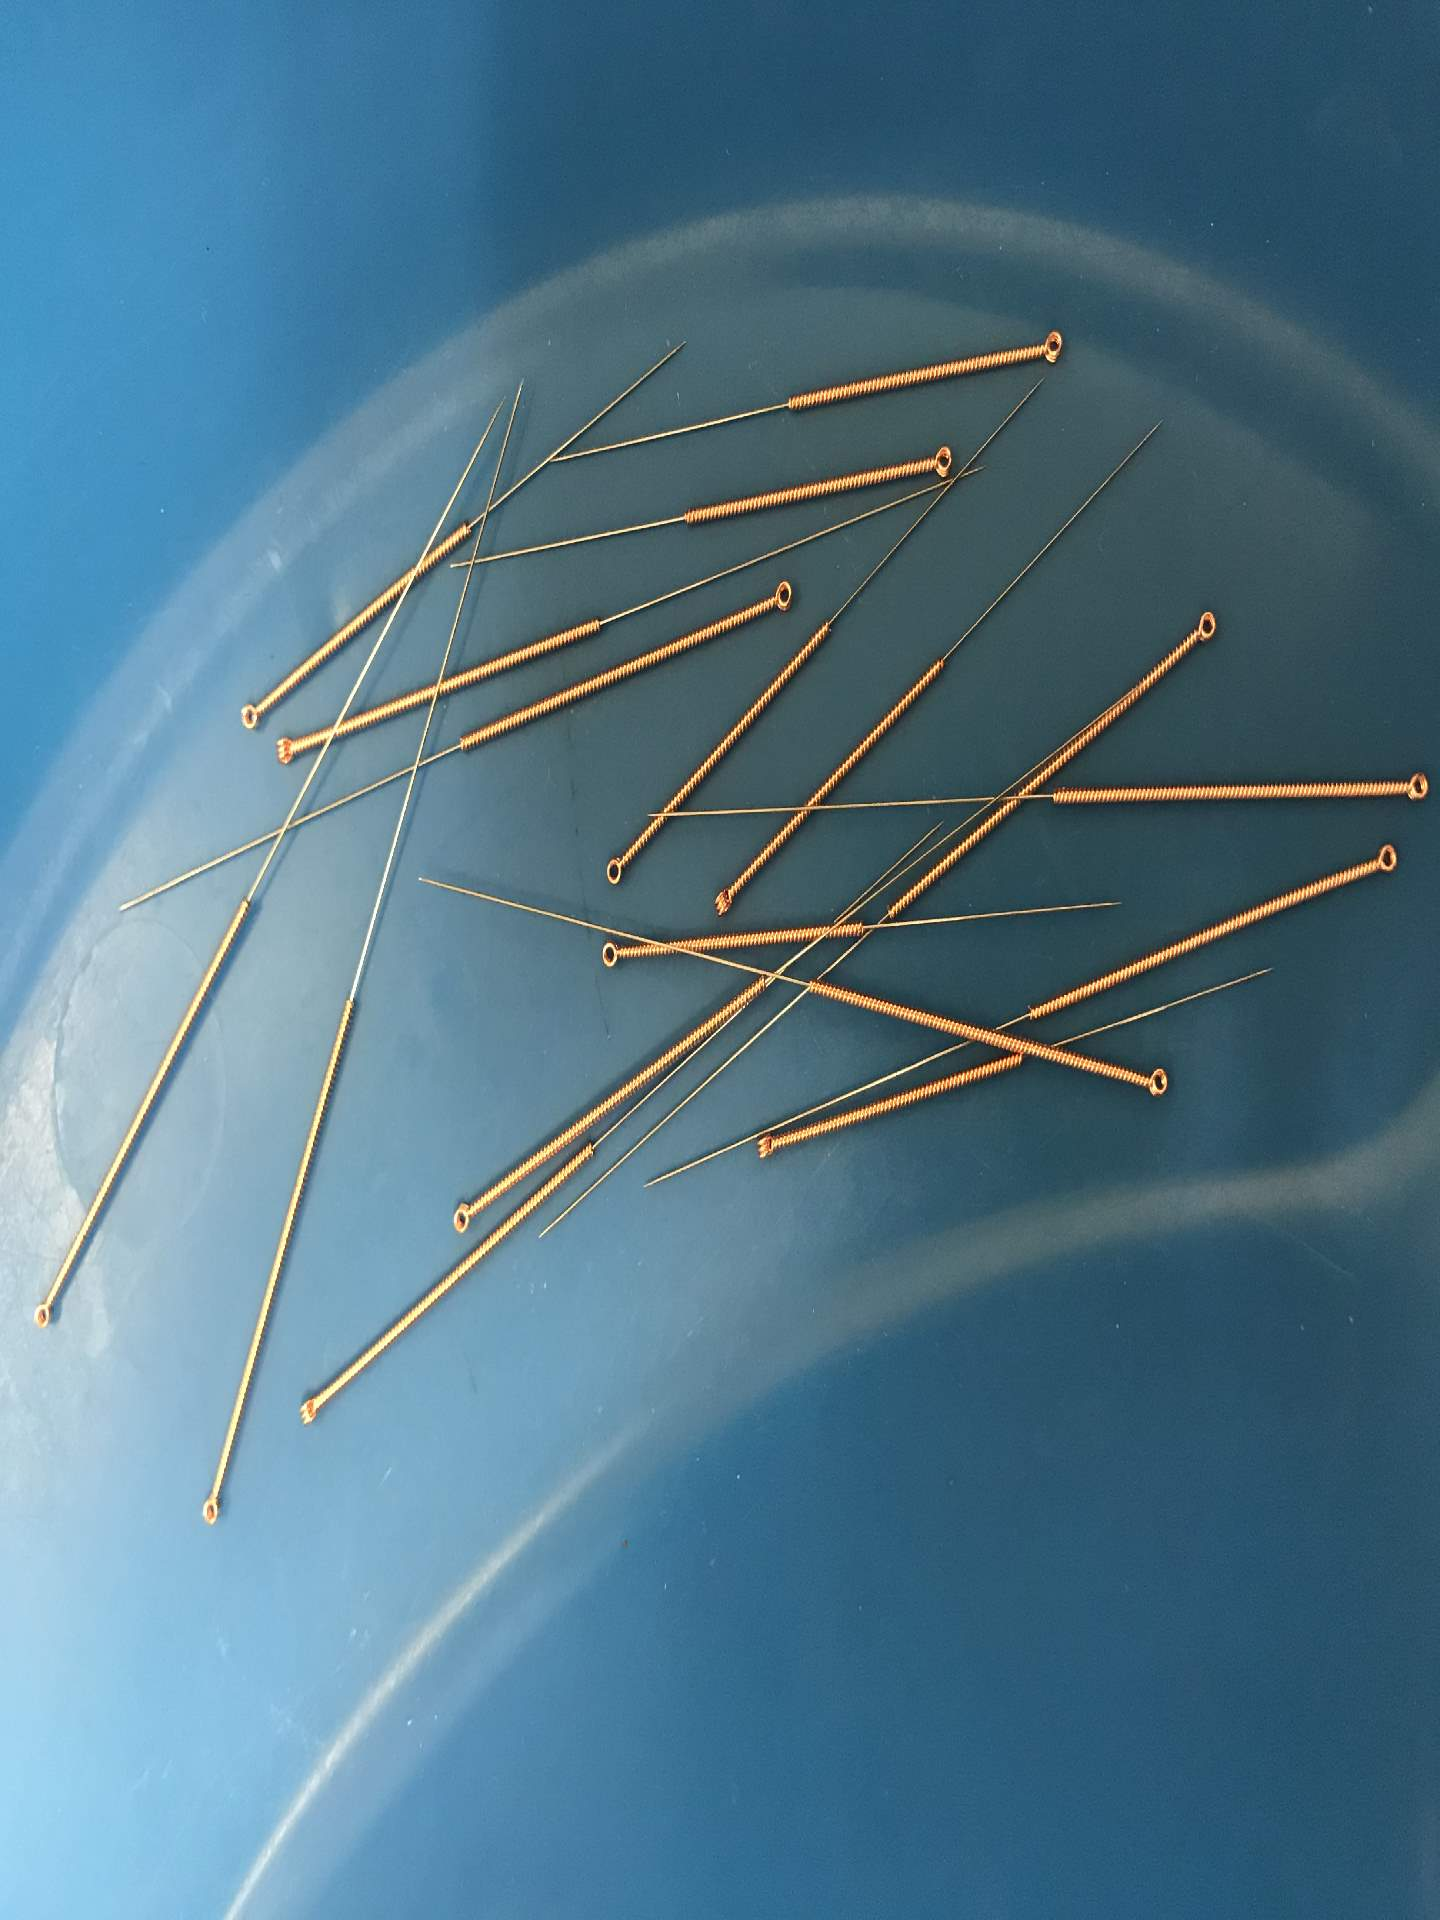needle: (1029, 321, 1072, 370), (1393, 760, 1435, 809), (1184, 602, 1224, 652), (918, 440, 961, 485), (1134, 1058, 1175, 1105), (1366, 836, 1407, 881), (443, 1193, 481, 1241), (596, 847, 634, 893), (265, 729, 306, 771), (762, 574, 800, 618), (290, 1389, 327, 1433), (593, 934, 629, 977), (24, 1294, 61, 1336), (192, 1488, 225, 1533), (233, 695, 269, 736), (706, 881, 740, 924), (747, 1129, 782, 1169)
